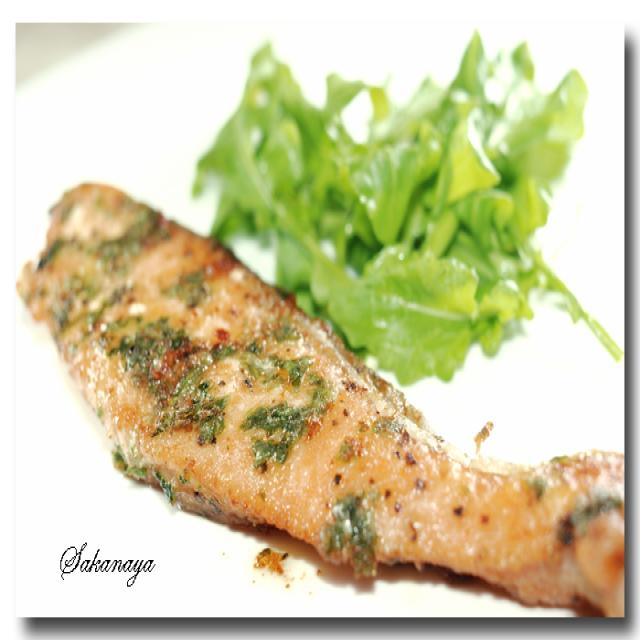熟制海鲜: (21, 163, 619, 612)
